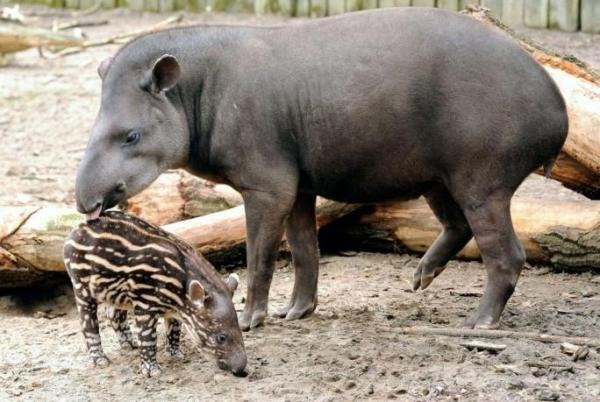Anta: (73, 6, 573, 335), (53, 207, 272, 386)
